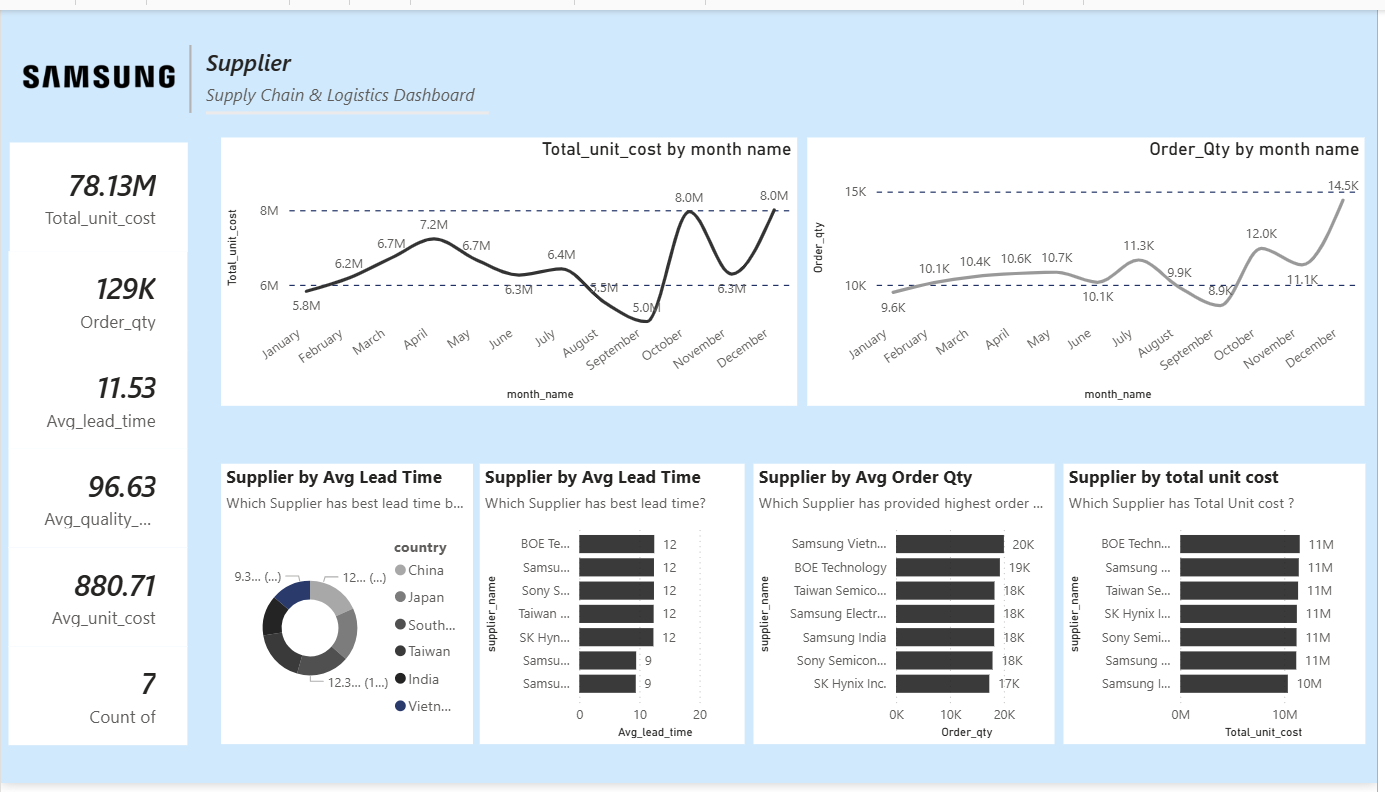

Layout of this report page (visuals, bound fields, positions):
{"tool":"powerbi","page":{"name":"Supplier","canvas":[1280,720],"ordinal":2},"visuals":[{"type":"shape","title":"Supplier","box":[190.1,33.3,263,63],"z":0},{"type":"shape","box":[156.4,32.9,38.4,63.1],"z":1000},{"type":"image","box":[9.6,35.7,156.4,50.8],"z":2000},{"type":"cardVisual","fields":{"Data":["fact_procurement.Total_unit_cost"]},"box":[7.9,123.2,165.4,101.2],"z":3000},{"type":"cardVisual","fields":{"Data":["MeasureTable.Order_qty"]},"box":[6.9,224.7,166.3,91.7],"z":4000},{"type":"cardVisual","fields":{"Data":["MeasureTable.Avg_lead_time"]},"box":[6.9,316.5,166.3,91.7],"z":5000},{"type":"cardVisual","fields":{"Data":["fact_procurement.Avg_quality_Score"]},"box":[6.9,408.2,166.3,91.7],"z":6000},{"type":"cardVisual","fields":{"Data":["fact_procurement.Avg_unit_cost"]},"box":[6.9,499.9,166.3,91.7],"z":7000},{"type":"cardVisual","fields":{"Data":["CountNonNull(dim_supplier.supplier_id)"]},"box":[6.9,591.6,166.3,91.7],"z":8000},{"type":"shape","box":[512.4,337.5,227.4,59.9],"z":9000},{"type":"clusteredBarChart","title":"Supplier by Avg Lead Time ","fields":{"Category":["dim_supplier.supplier_name"],"Y":["MeasureTable.Avg_lead_time"]},"box":[445.2,422.3,246.1,260.6],"z":10000},{"type":"clusteredBarChart","title":"Supplier by total unit cost ","fields":{"Category":["dim_supplier.supplier_name"],"Y":["fact_procurement.Total_unit_cost"]},"box":[988.1,422.3,281.1,260.6],"z":11000},{"type":"clusteredBarChart","title":"Supplier by Avg Order Qty","fields":{"Category":["dim_supplier.supplier_name"],"Y":["MeasureTable.Order_qty"]},"box":[699.7,422.3,279.9,260.6],"z":12000},{"type":"donutChart","title":"Supplier by Avg Lead Time ","fields":{"Category":["dim_supplier.country"],"Y":["MeasureTable.Avg_lead_time"]},"box":[205.1,422.3,234,260.6],"z":13000},{"type":"lineChart","title":"Total_unit_cost by month name","fields":{"Category":["dim_date.month_name"],"Y":["fact_procurement.Total_unit_cost"]},"box":[205.1,118.2,535.7,249.7],"z":14000},{"type":"lineChart","title":"Order_Qty by month name","fields":{"Category":["dim_date.month_name"],"Y":["MeasureTable.Order_qty"]},"box":[750.4,118.2,518.8,249.7],"z":15000}]}

Visuals, with their boxes in screenshot pixels (x1, y1, x2, y2), scaled from the page's 1280x720 canvas onto the 1385x792 screenshot:
"Supplier" shape: 206, 37, 490, 106
shape: 169, 36, 211, 106
image: 10, 39, 180, 95
cardVisual - fact_procurement.Total_unit_cost: 9, 136, 188, 247
cardVisual - MeasureTable.Order_qty: 7, 247, 187, 348
cardVisual - MeasureTable.Avg_lead_time: 7, 348, 187, 449
cardVisual - fact_procurement.Avg_quality_Score: 7, 449, 187, 550
cardVisual - fact_procurement.Avg_unit_cost: 7, 550, 187, 651
cardVisual - CountNonNull(dim_supplier.supplier_id): 7, 651, 187, 752
shape: 554, 371, 800, 437
"Supplier by Avg Lead Time " clusteredBarChart: 482, 465, 748, 751
"Supplier by total unit cost " clusteredBarChart: 1069, 465, 1373, 751
"Supplier by Avg Order Qty" clusteredBarChart: 757, 465, 1060, 751
"Supplier by Avg Lead Time " donutChart: 222, 465, 475, 751
"Total_unit_cost by month name" lineChart: 222, 130, 802, 405
"Order_Qty by month name" lineChart: 812, 130, 1373, 405
